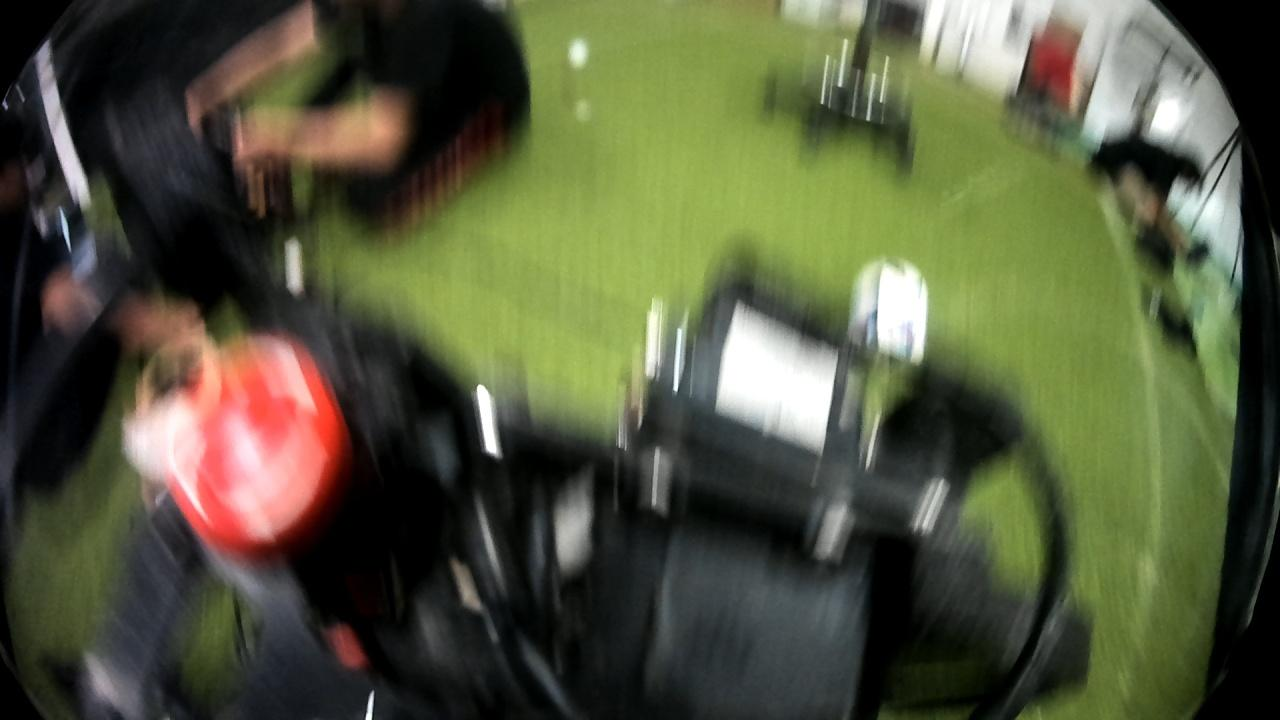ball: (844, 246, 937, 370)
